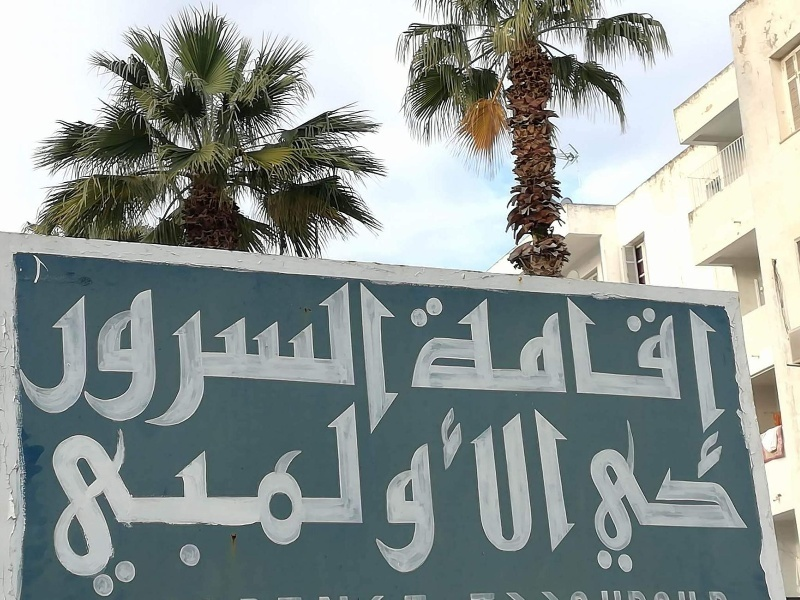text: (417, 290, 432, 491), (433, 290, 448, 491), (449, 290, 464, 491), (465, 290, 480, 491), (481, 290, 496, 491), (497, 290, 512, 491), (513, 290, 528, 491), (529, 290, 544, 491), (545, 290, 560, 491), (561, 290, 576, 491), (577, 290, 592, 491), (593, 290, 608, 491), (609, 290, 624, 491), (625, 290, 640, 491), (641, 290, 656, 491), (657, 290, 672, 491), (673, 290, 688, 491), (689, 290, 704, 491), (705, 290, 720, 491), (65, 398, 80, 597), (81, 398, 96, 597), (97, 398, 112, 597), (113, 398, 128, 597), (129, 398, 144, 597), (145, 398, 160, 597), (161, 398, 176, 597), (177, 398, 192, 597), (193, 398, 208, 597), (209, 398, 224, 597), (225, 398, 240, 597), (241, 398, 256, 597), (257, 398, 272, 597), (273, 398, 288, 597), (289, 398, 304, 597), (305, 398, 320, 597), (321, 398, 336, 597), (337, 398, 352, 597), (353, 398, 368, 597), (369, 398, 384, 597), (385, 398, 400, 597), (401, 398, 416, 597), (417, 398, 432, 597), (433, 398, 448, 597), (449, 398, 464, 597), (465, 398, 480, 597), (481, 398, 496, 597), (497, 398, 512, 597), (513, 398, 528, 597), (529, 398, 544, 597), (545, 398, 560, 597), (561, 398, 576, 597), (33, 260, 48, 439), (49, 260, 64, 439), (65, 260, 80, 439), (81, 260, 96, 439), (97, 260, 112, 439), (113, 260, 128, 439), (129, 260, 144, 439), (145, 260, 160, 439), (161, 260, 176, 439), (177, 260, 192, 439), (193, 260, 208, 439), (209, 260, 224, 439), (225, 260, 240, 439), (241, 260, 256, 439), (257, 260, 272, 439), (273, 260, 288, 439), (289, 260, 304, 439), (305, 260, 320, 439), (321, 260, 336, 439), (337, 260, 352, 439), (353, 260, 368, 439), (369, 260, 384, 439), (403, 290, 416, 491), (385, 260, 399, 439), (52, 398, 64, 597), (593, 424, 608, 577), (609, 424, 624, 577), (625, 424, 640, 577), (641, 424, 656, 577), (657, 424, 672, 577), (673, 424, 688, 577), (689, 424, 704, 577), (705, 424, 720, 577), (721, 424, 736, 577), (737, 424, 752, 577), (22, 260, 32, 439), (721, 290, 727, 491), (586, 424, 592, 577), (577, 398, 579, 597)
